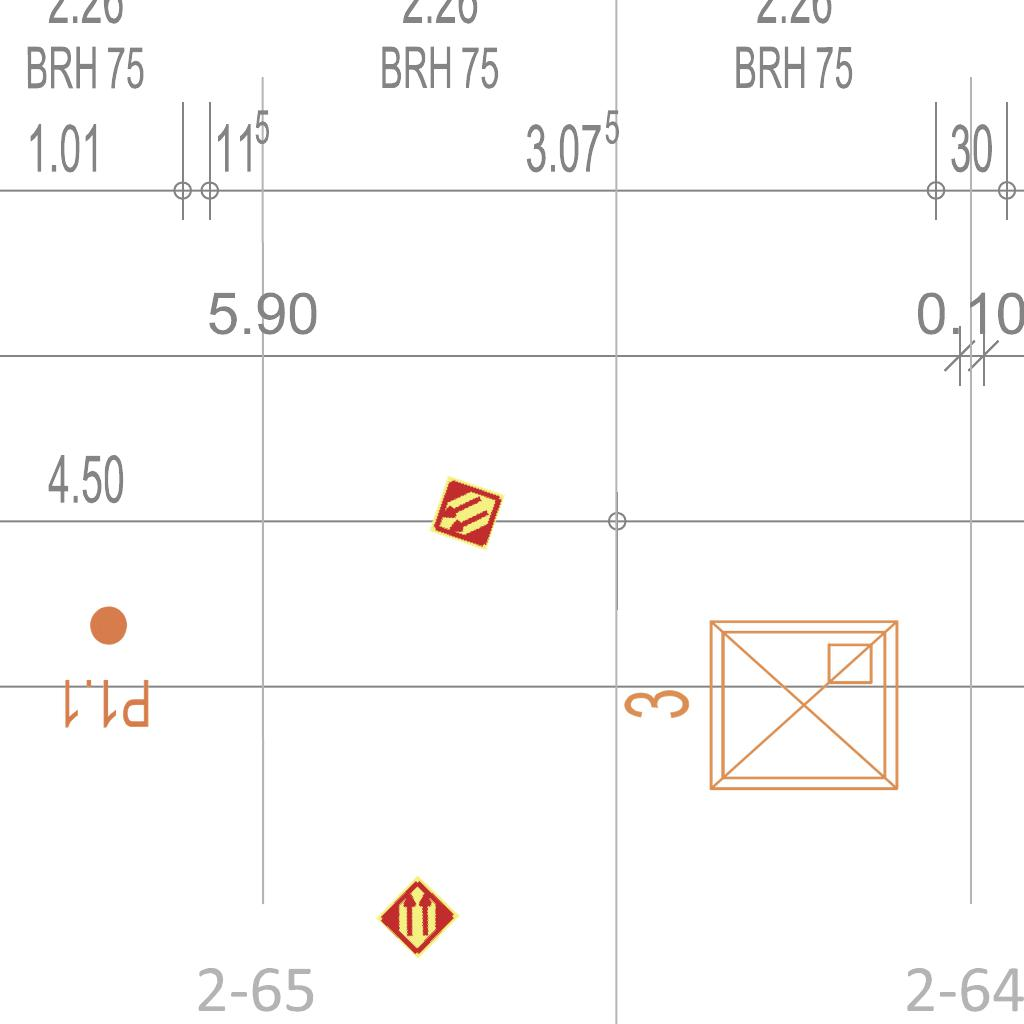ASR_Ansaugrauchmelder: (374, 873, 462, 961), (427, 473, 507, 553)
Downlight_LED_Einbauleuchten_Flur: (59, 603, 152, 731)
Einbaudownlights_LED_Konferenzraeume: (613, 605, 913, 813)
